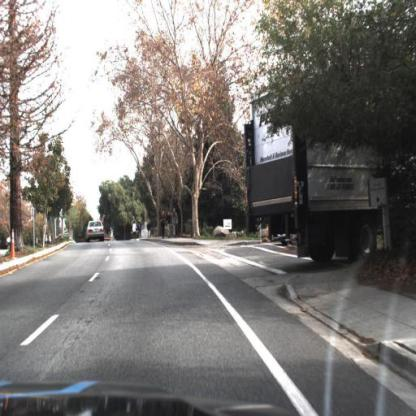car: (84, 220, 106, 243)
pedestrian: (88, 219, 106, 242), (160, 210, 168, 240), (172, 208, 179, 237), (167, 210, 172, 240), (138, 219, 144, 241), (147, 217, 152, 241), (133, 220, 138, 240)
truck: (246, 88, 378, 268)
